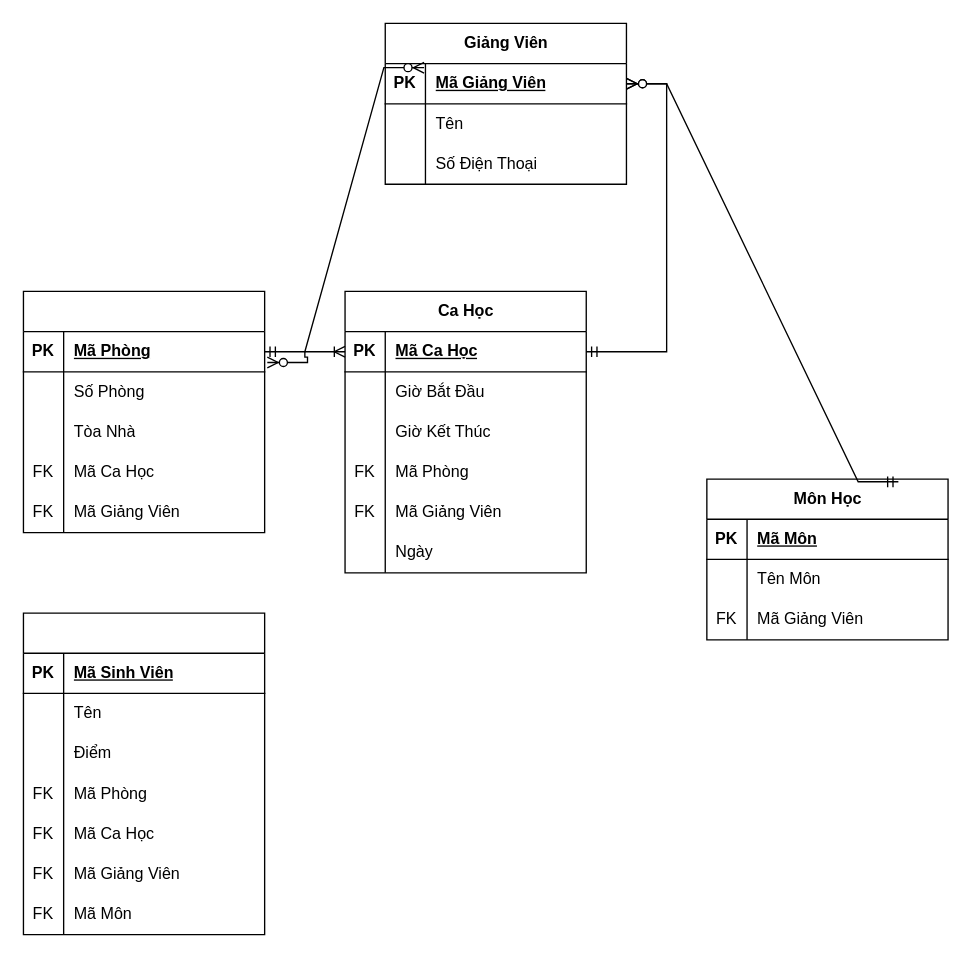
Some shapes in this 972 by 958 pixel diagram are drawn without their labels. Each missing label, with the box of its shape:
Danh Sách Phòng: (22, 290, 265, 533)
Sinh Vien: (22, 612, 265, 935)
